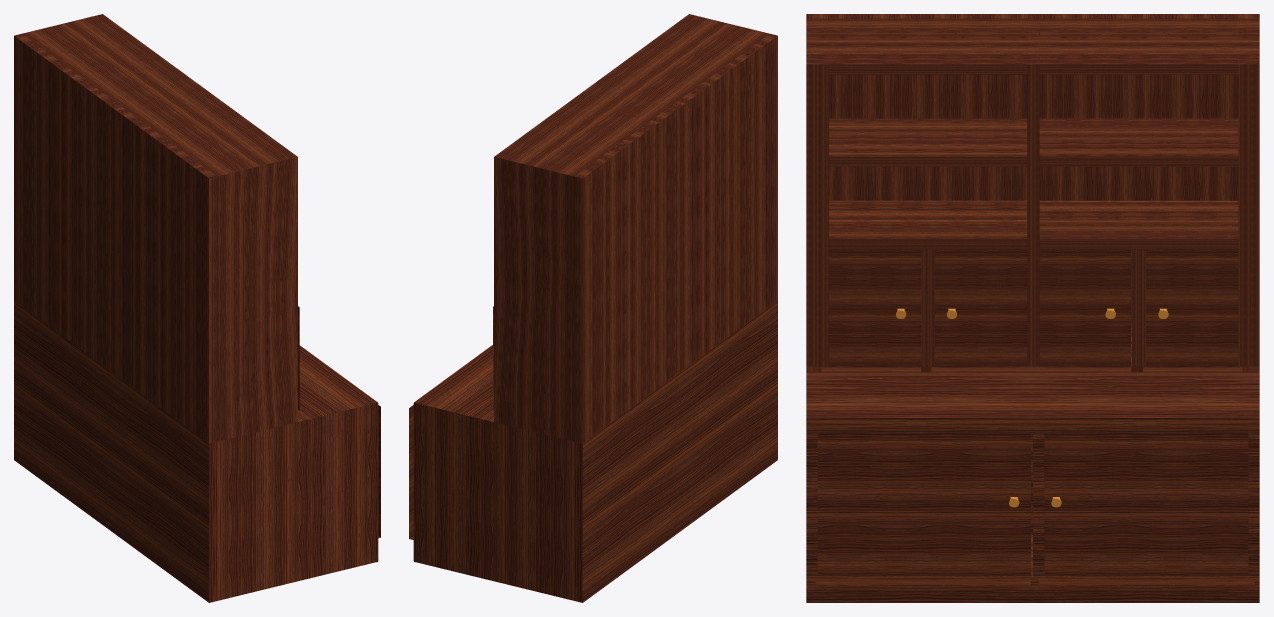
Rendered from Armário 1.fbx.
The picture shows the model from 3 angles, left to right: view 1: azimuth 30°, elevation 25°; view 2: azimuth 150°, elevation 25°; view 3: azimuth 270°, elevation 25°; orthographic projection. The views are drawn at different scales.
Parts seen in each view (by area): view 1: Cube.383; view 2: Cube.383, Cube.412; view 3: Cube.383, Cube.371, Cube.412, Cube.374, Cube.373, Cube.375, Cube.372.
Part boxes in pixels (x1=…): Cube.383: x1=14, y1=14, x2=378, y2=602; Cube.383: x1=413, y1=14, x2=777, y2=602; Cube.412: x1=409, y1=405, x2=413, y2=539; Cube.383: x1=806, y1=14, x2=1259, y2=602; Cube.371: x1=816, y1=433, x2=1030, y2=584; Cube.412: x1=1039, y1=433, x2=1254, y2=584; Cube.374: x1=821, y1=249, x2=921, y2=372; Cube.373: x1=931, y1=249, x2=1031, y2=372; Cube.375: x1=1143, y1=249, x2=1242, y2=372; Cube.372: x1=1031, y1=249, x2=1130, y2=372.
Bounding box in the file's own units: 280 × 618 × 515.
